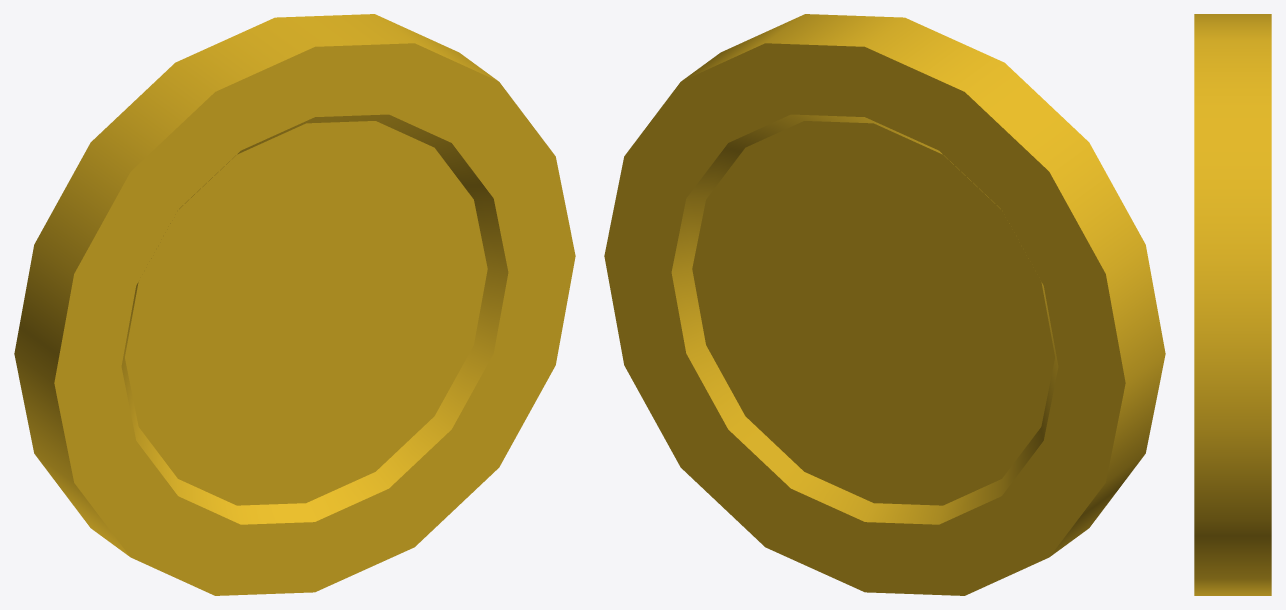
Rendered from coin.fbx.
3 views of the same model, side by side, from view 1: azimuth 30°, elevation 25°; view 2: azimuth 150°, elevation 25°; view 3: azimuth 270°, elevation 25° (orthographic). The views are drawn at different scales.
Parts seen in each view (by area): view 1: coin; view 2: coin; view 3: coin.
Part boxes in pixels (x1,y1,x2,y2): coin: (14, 14, 575, 595); coin: (604, 14, 1165, 595); coin: (1194, 14, 1271, 595).
Bounding box in the file's own units: 32.36 × 32.36 × 4.3.
